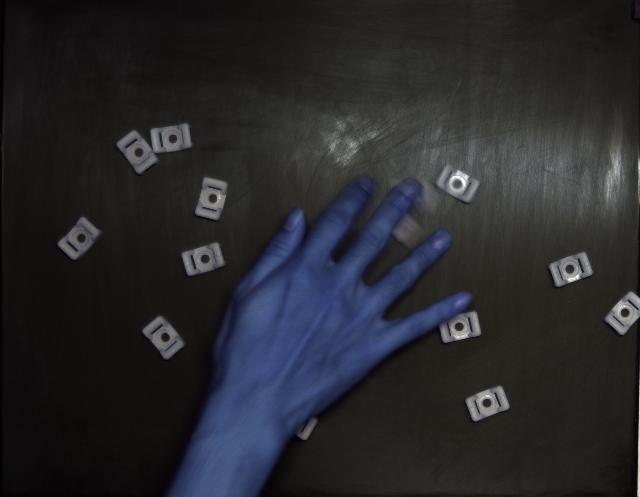first_side: (116, 130, 159, 175), (142, 316, 185, 360), (58, 218, 102, 260), (435, 165, 480, 204), (465, 386, 510, 422), (549, 253, 592, 288), (181, 242, 225, 276), (195, 178, 228, 220), (150, 124, 192, 154)
